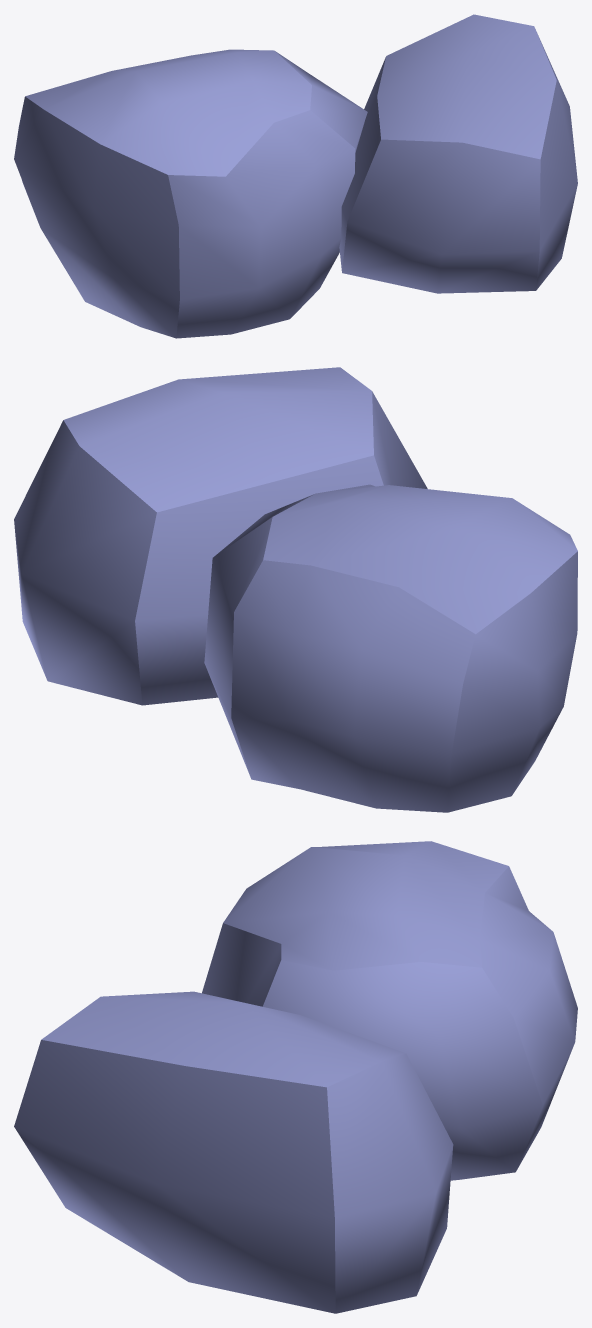
Rendered from Rook_2.fbx.
3 renders of one model, top to bottom at view 1: azimuth 30°, elevation 25°; view 2: azimuth 150°, elevation 25°; view 3: azimuth 270°, elevation 25°, orthographic. The views are drawn at different scales.
Visible parts, largest first — view 1: Cube.043; view 2: Cube.043; view 3: Cube.043.
Part boxes in pixels (x1=…): Cube.043: x1=14, y1=14, x2=577, y2=338; Cube.043: x1=14, y1=367, x2=577, y2=812; Cube.043: x1=14, y1=841, x2=577, y2=1313.
Size of the model in its own units: 261 by 119 by 216.
